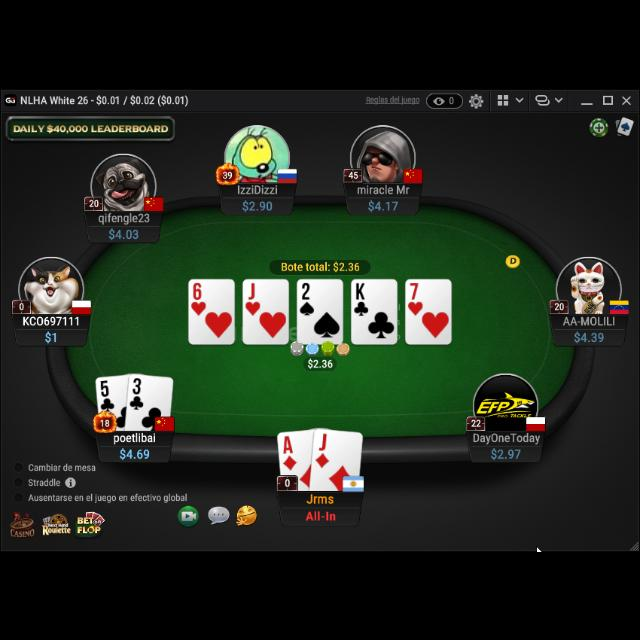2s: (298, 280, 316, 316)
3c: (127, 375, 145, 415)
5c: (99, 378, 117, 414)
6h: (190, 280, 208, 318)
7h: (406, 280, 424, 316)
Ad: (282, 434, 298, 471)
Jd: (314, 429, 332, 468)
Jh: (244, 280, 262, 316)
Kc: (352, 281, 370, 317)
all_in_symbol: (304, 504, 338, 522)
bet_text: (306, 354, 336, 368)
dealer: (504, 250, 522, 268)
pot_text: (280, 260, 362, 270)
stack_text: (106, 224, 140, 238), (573, 328, 605, 342), (490, 445, 522, 459), (366, 198, 399, 210), (119, 446, 151, 458), (242, 198, 274, 210), (42, 328, 59, 342)
